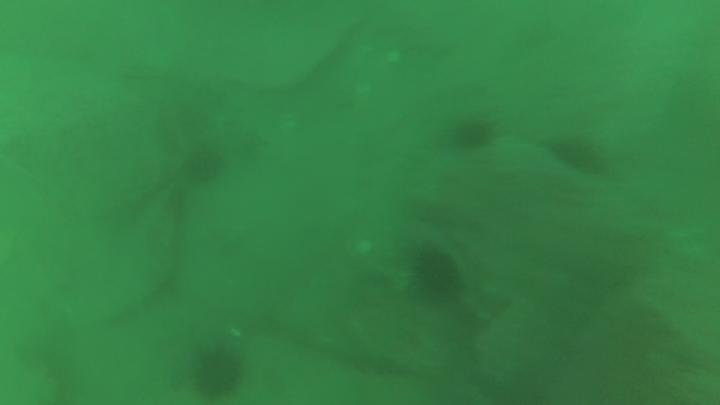echinus: (416, 252, 460, 305), (553, 138, 602, 173), (196, 351, 239, 390), (185, 151, 224, 183), (452, 121, 490, 150)
